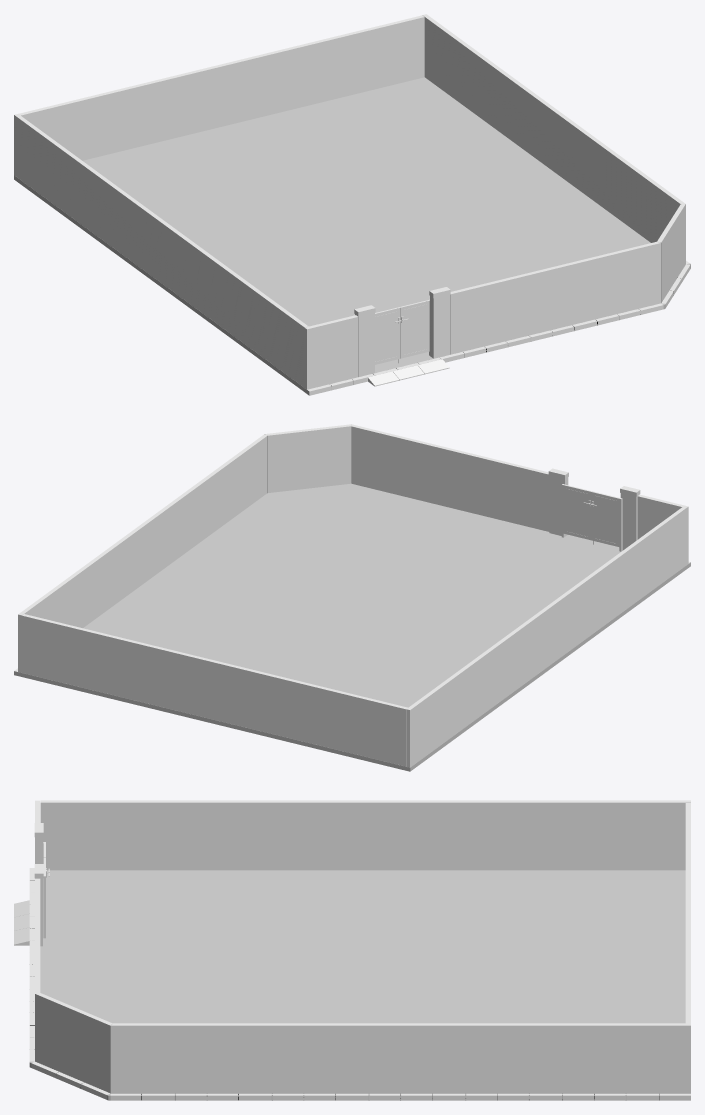
Rendered from Property_G2.fbx.
The picture shows the model from 3 angles, top to bottom: view 1: azimuth 30°, elevation 25°; view 2: azimuth 150°, elevation 25°; view 3: azimuth 270°, elevation 25°; orthographic projection. The views are drawn at different scales.
Visible parts, largest first — view 1: Ground.014, Wall.10035, Wall.10001, Wall.015, Wall.016, Door.062, Door.059, Step.017; view 2: Ground.014, Wall.10035, Wall.10001, Wall.015, Wall.016, Door.059, Door.062; view 3: Ground.014, Wall.015, Wall.016, Wall.10001, Wall.10035, Step.017.
Part boxes in pixels (x1,y1,x2,y2): Ground.014: (14,77,690,395); Wall.10035: (18,15,424,160); Wall.10001: (304,204,685,389); Wall.015: (14,114,308,387); Wall.016: (422,14,685,242); Door.062: (400,300,429,358); Door.059: (375,307,401,364); Step.017: (368,359,449,386); Ground.014: (14,483,690,771); Wall.10035: (22,614,407,766); Wall.10001: (264,424,688,564); Wall.015: (406,507,686,767); Wall.016: (18,434,267,672); Door.059: (590,491,619,546); Door.062: (563,484,591,540); Ground.014: (29,868,690,1100); Wall.015: (40,800,690,870); Wall.016: (110,1023,690,1093); Wall.10001: (34,800,112,1093); Wall.10035: (685,803,690,1023); Step.017: (14,900,29,945).
Bounding box in the file's own units: 1010 × 161 × 1270.
